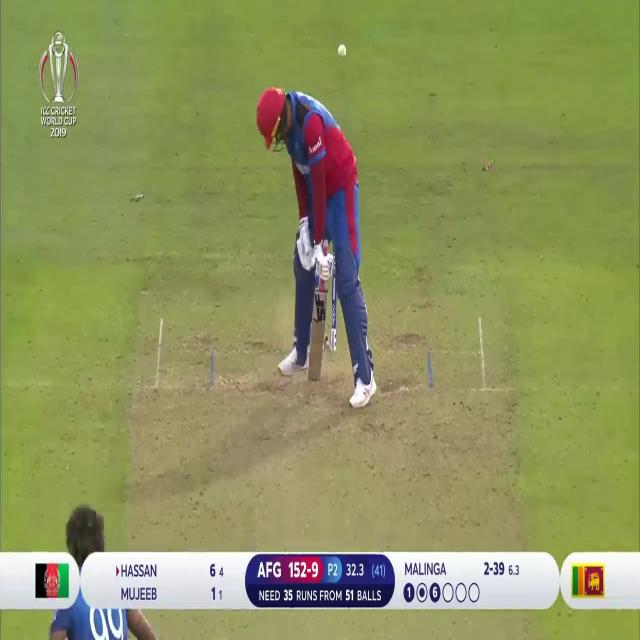ball: (336, 43, 349, 64)
